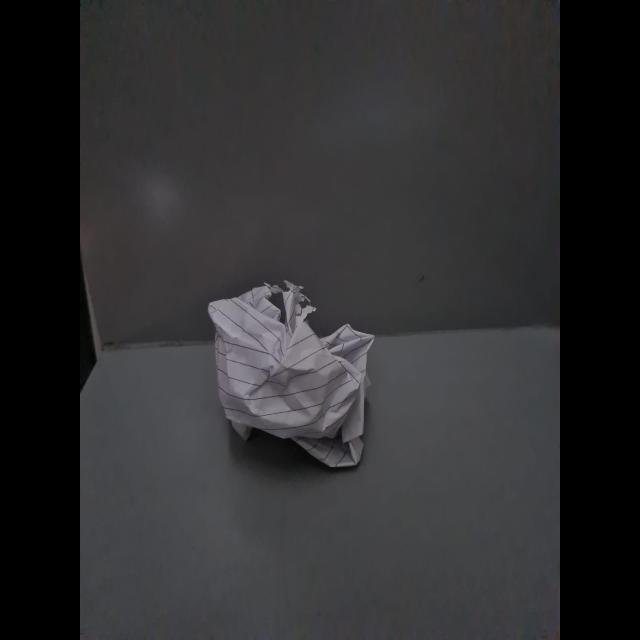scrap_paper: (204, 279, 382, 473)
